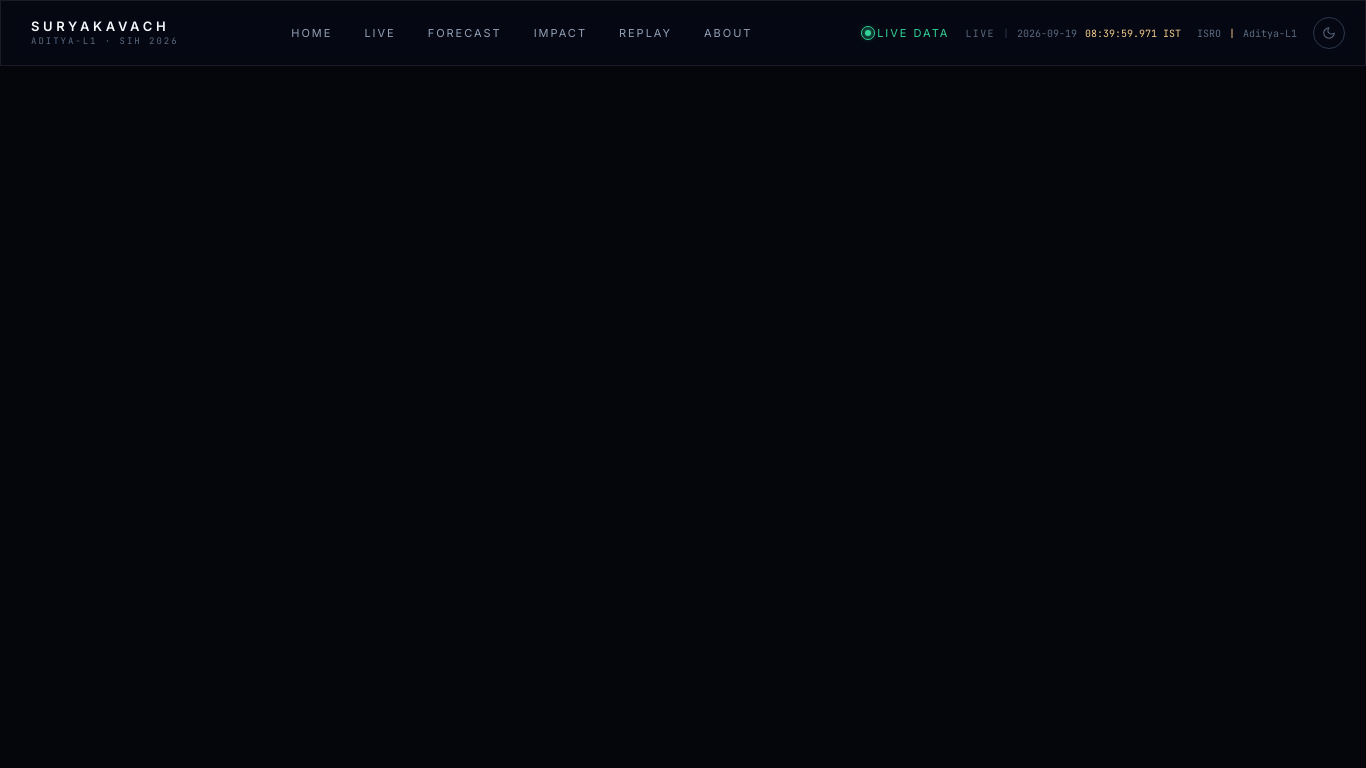
it: NavBar mobile menu › keeps the theme toggle reachable on a phone
Click the button named "Switch to light mode" at (1329, 33), box [1313,17,1345,49]
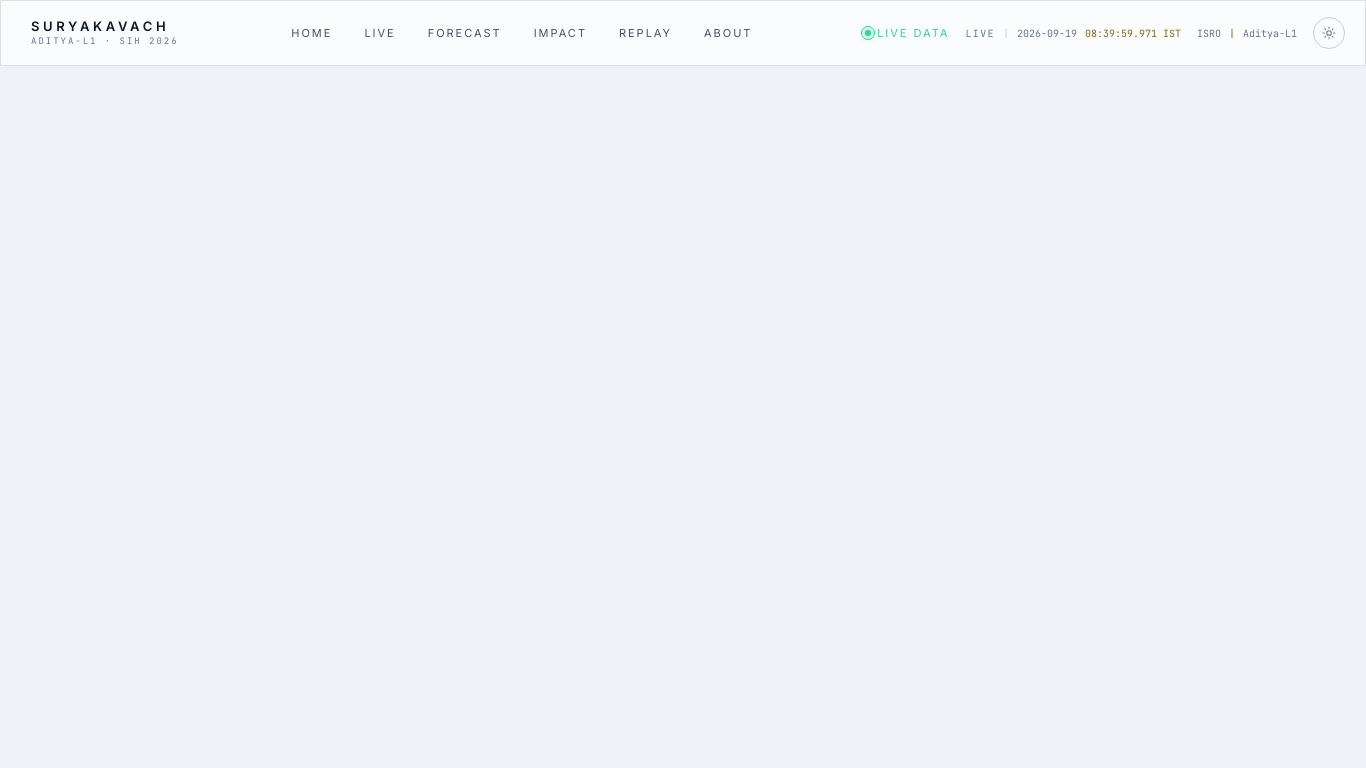
Expected: the button named "Switch to dark mode" is shown, [1313,17,1345,49]
